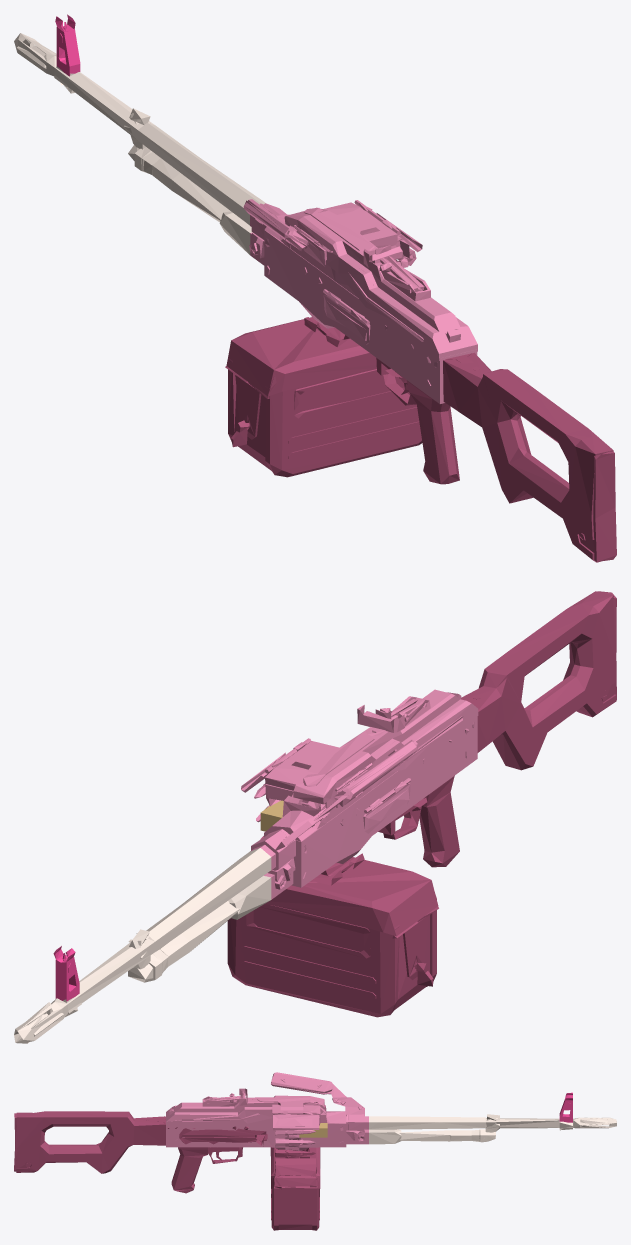
The model's file is LMG_PKM.obj.
3 renders of one model, top to bottom at view 1: azimuth 30°, elevation 25°; view 2: azimuth 150°, elevation 25°; view 3: azimuth 270°, elevation 25°, orthographic. The views are drawn at different scales.
Visible parts, largest first — view 1: Mag, Body, Grip, Panel, Accent; view 2: Mag, Body, Grip, Panel, Accent; view 3: Body, Mag, Grip, Panel, Accent, Bolt.
Boxes of the visible parts, x1,y1,x2,y2 form: Mag: (225,317,473,484); Body: (243,199,477,403); Grip: (443,352,616,562); Panel: (14,33,265,254); Accent: (55,14,80,76); Mag: (227,775,459,1017); Body: (241,689,478,899); Grip: (461,591,616,770); Panel: (14,848,271,1043); Accent: (53,946,79,1001); Body: (166,1072,368,1150); Mag: (155,1117,320,1230); Grip: (14,1111,165,1173); Panel: (369,1114,616,1144); Accent: (559,1092,572,1122); Bolt: (299,1123,327,1137).
Bounding box in the file's own units: 0.7709 × 0.9698 × 4.2.
